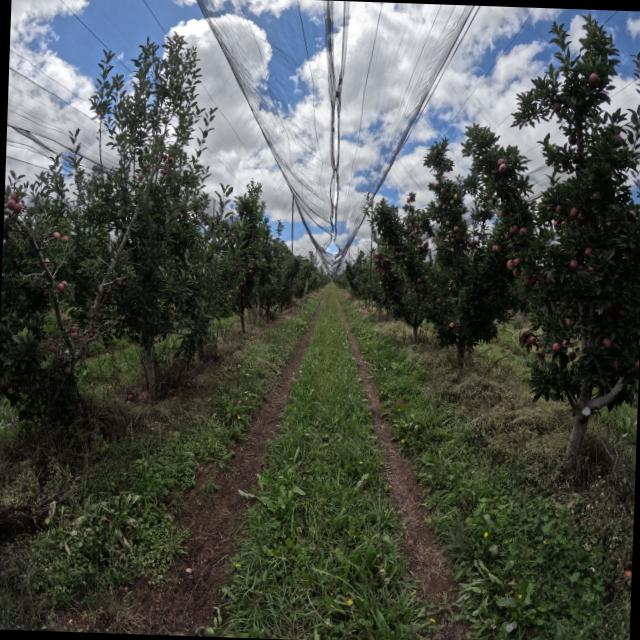-FireBlight-: (518, 330, 536, 352), (537, 351, 545, 363)
